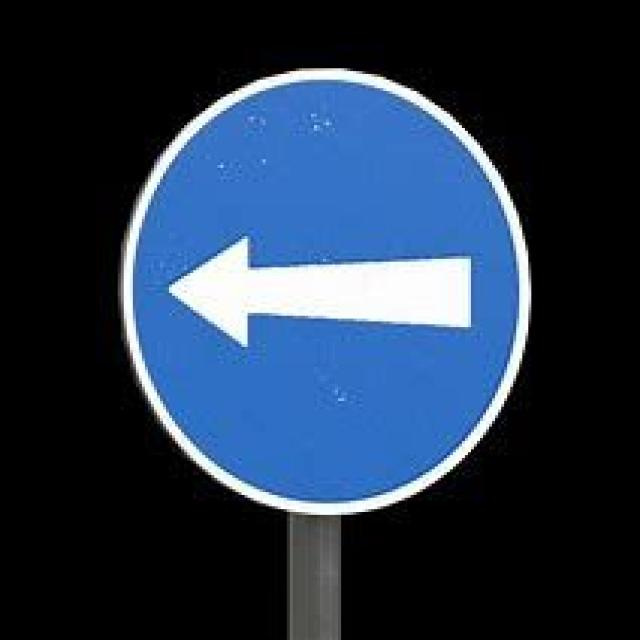COMPULSARY_TURN_LEFT: (120, 61, 538, 514)
